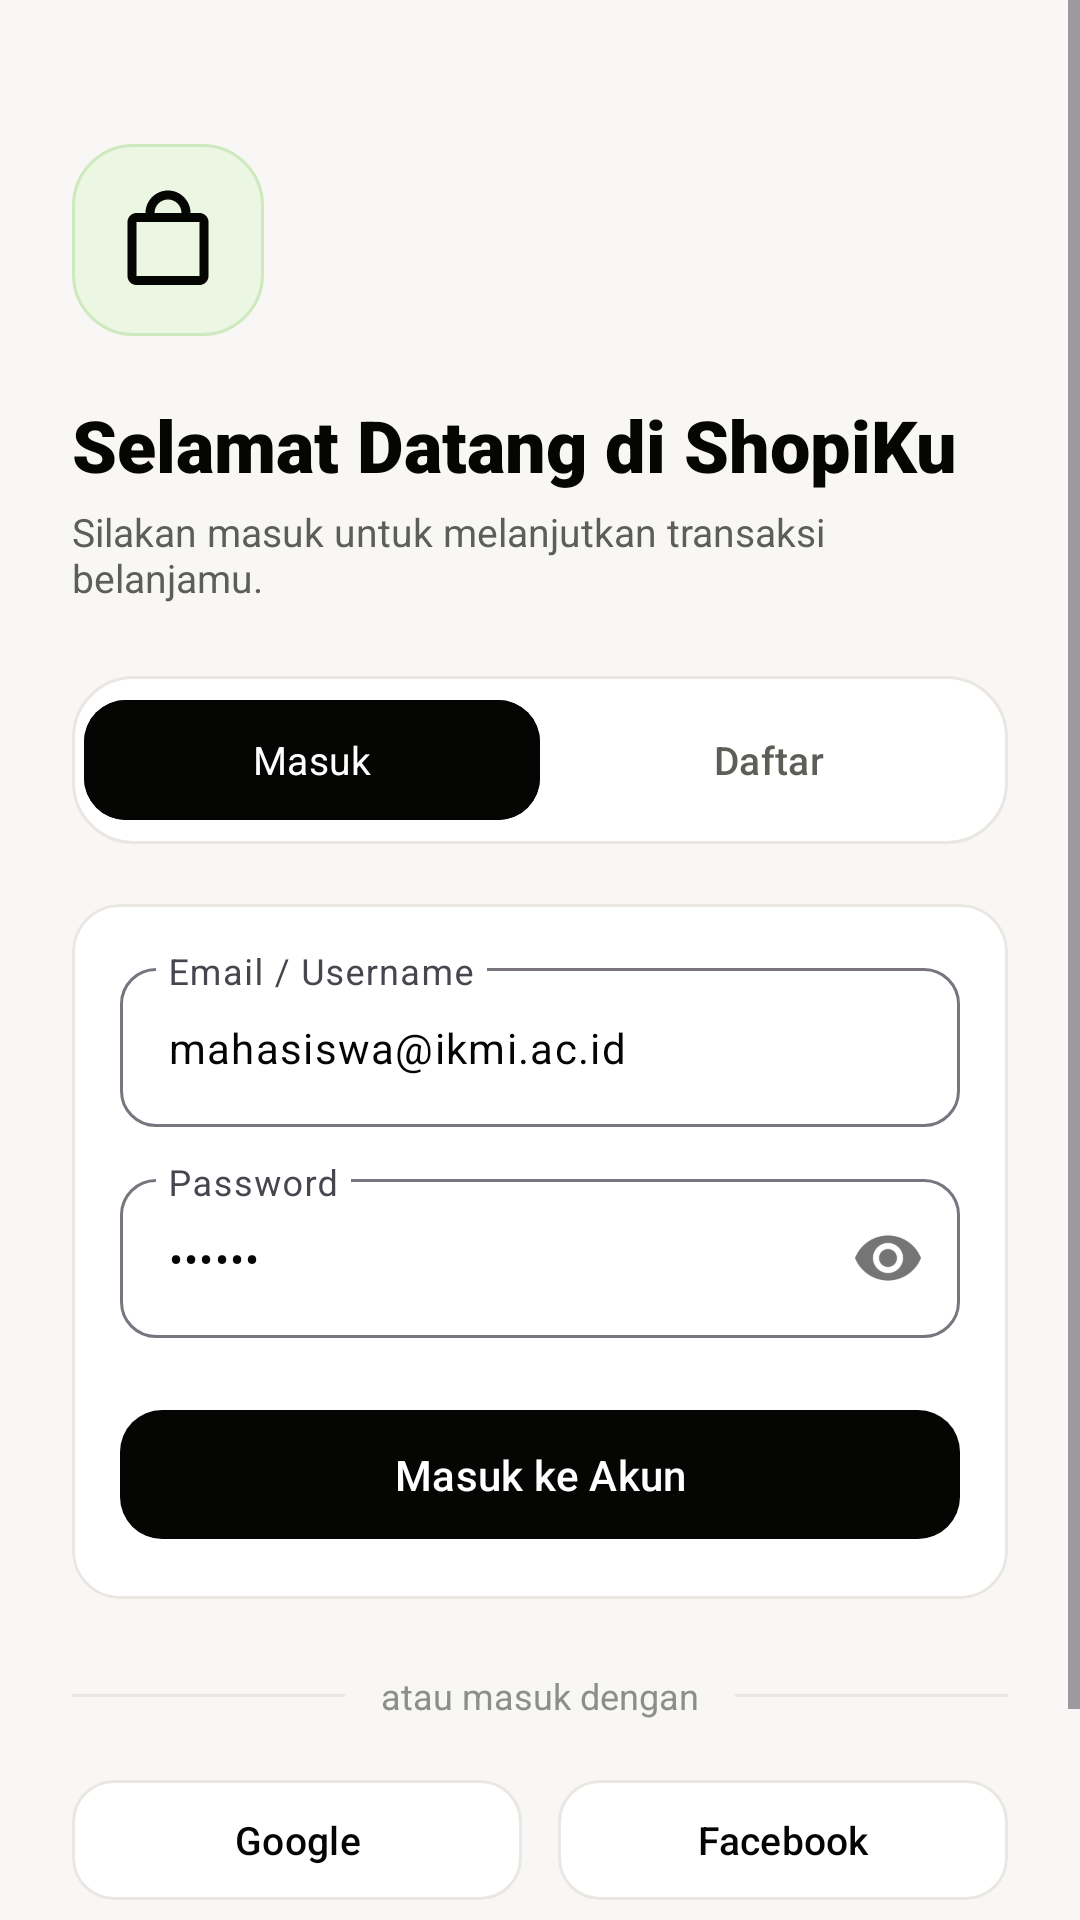

Screen size 1080w x 1920h. Icon name, then its center in pixels as (x,y):
shopping bag: (168,237)
